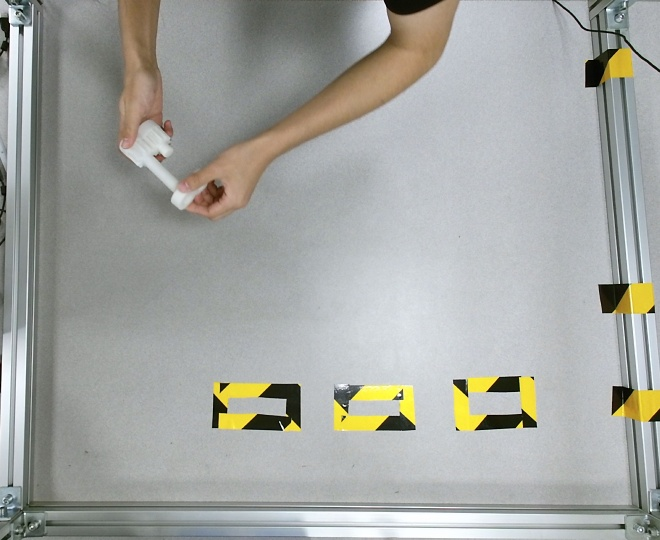stage_3: (119, 118, 181, 194)
